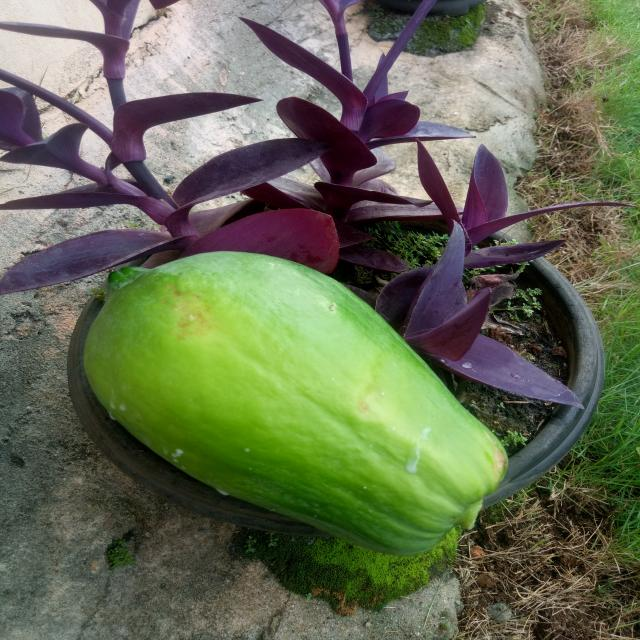Pepaya unrippen: (86, 248, 509, 551)
